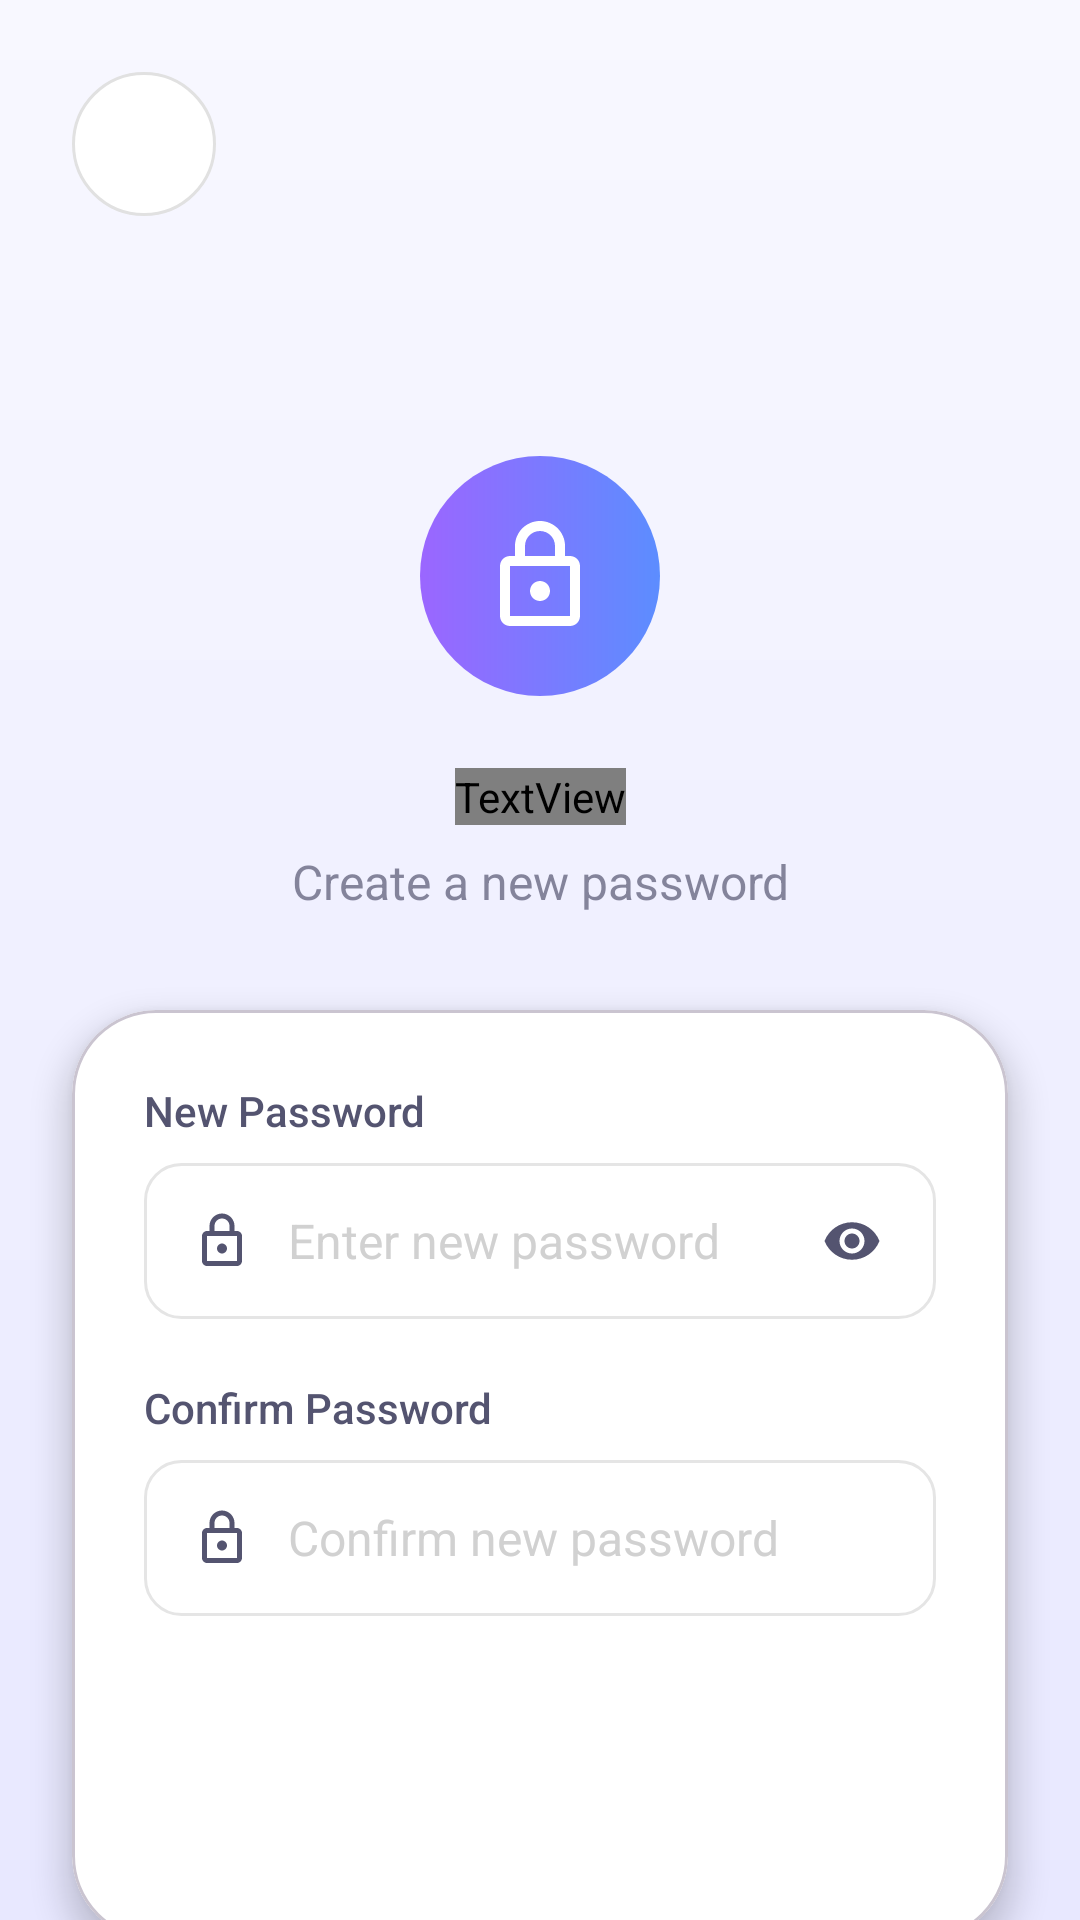

Icons on this 1080px x 1920px Android screen, each with the point to tap as (x=x, y=y):
eye: (x=852, y=1241)
lock: (x=530, y=576), (x=222, y=1239), (x=222, y=1536)
